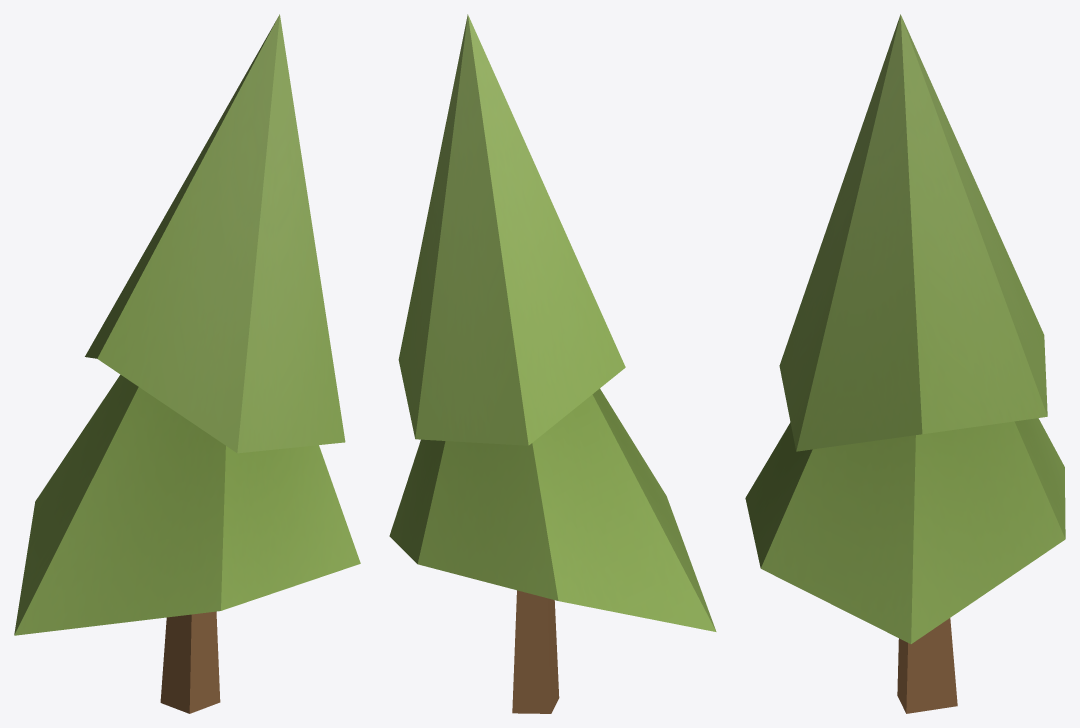
File: Pine_Tree_OneSided_s_09.fbx
3 renders of one model, left to right at view 1: azimuth 30°, elevation 25°; view 2: azimuth 150°, elevation 25°; view 3: azimuth 270°, elevation 25°, orthographic. The views are drawn at different scales.
Parts seen in each view (by area): view 1: Pine_Tree_OneSided_s_09; view 2: Pine_Tree_OneSided_s_09; view 3: Pine_Tree_OneSided_s_09.
Boxes of the visible parts, left/top/right/bottom form: Pine_Tree_OneSided_s_09: left=14, top=14, right=360, bottom=713; Pine_Tree_OneSided_s_09: left=389, top=14, right=716, bottom=713; Pine_Tree_OneSided_s_09: left=745, top=14, right=1065, bottom=713.
Bounding box in the file's own units: 80.48 × 155 × 61.75.
